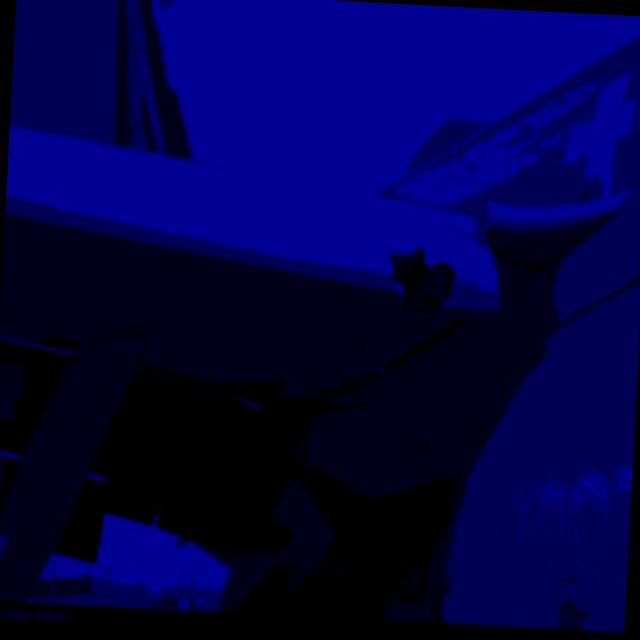crack: (382, 244, 454, 315)
